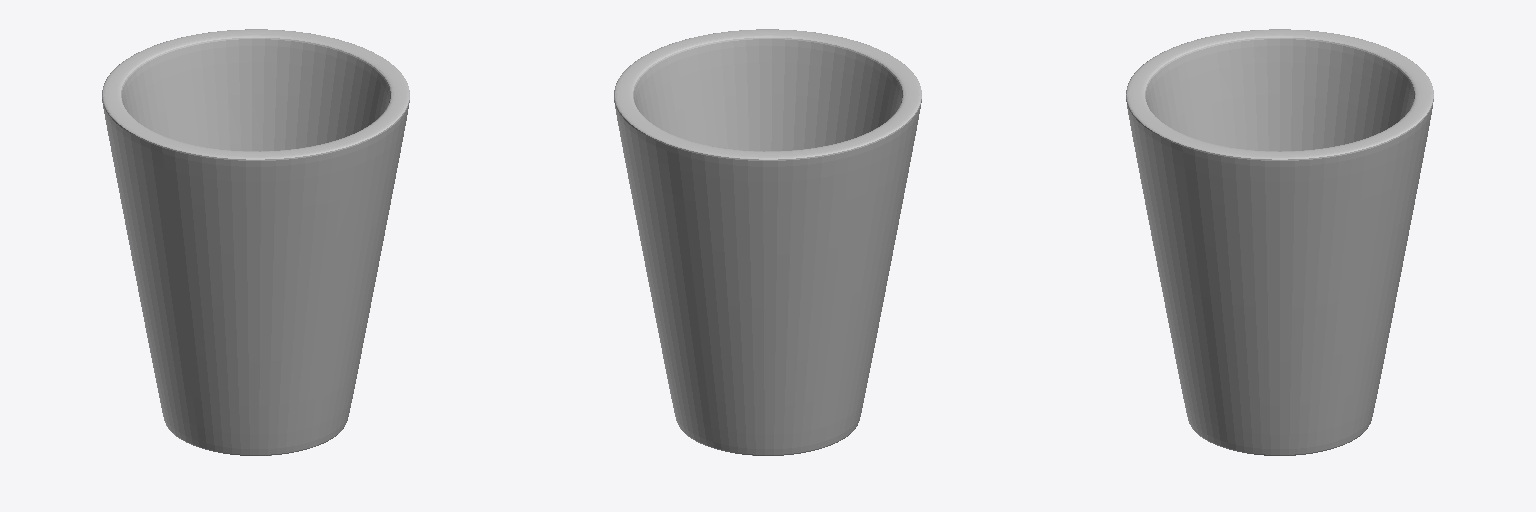
Rendered from glasswater1.obj.
3 renders of one model, left to right at view 1: azimuth 30°, elevation 25°; view 2: azimuth 150°, elevation 25°; view 3: azimuth 270°, elevation 25°, orthographic.
Visible parts, largest first — view 1: Vert; view 2: Vert; view 3: Vert.
Part boxes in pixels (left/top/right/bottom): Vert: left=102, top=29, right=409, bottom=455; Vert: left=614, top=29, right=921, bottom=455; Vert: left=1126, top=29, right=1433, bottom=455.
Bounding box in the file's own units: 3.25 × 3.78 × 3.25.